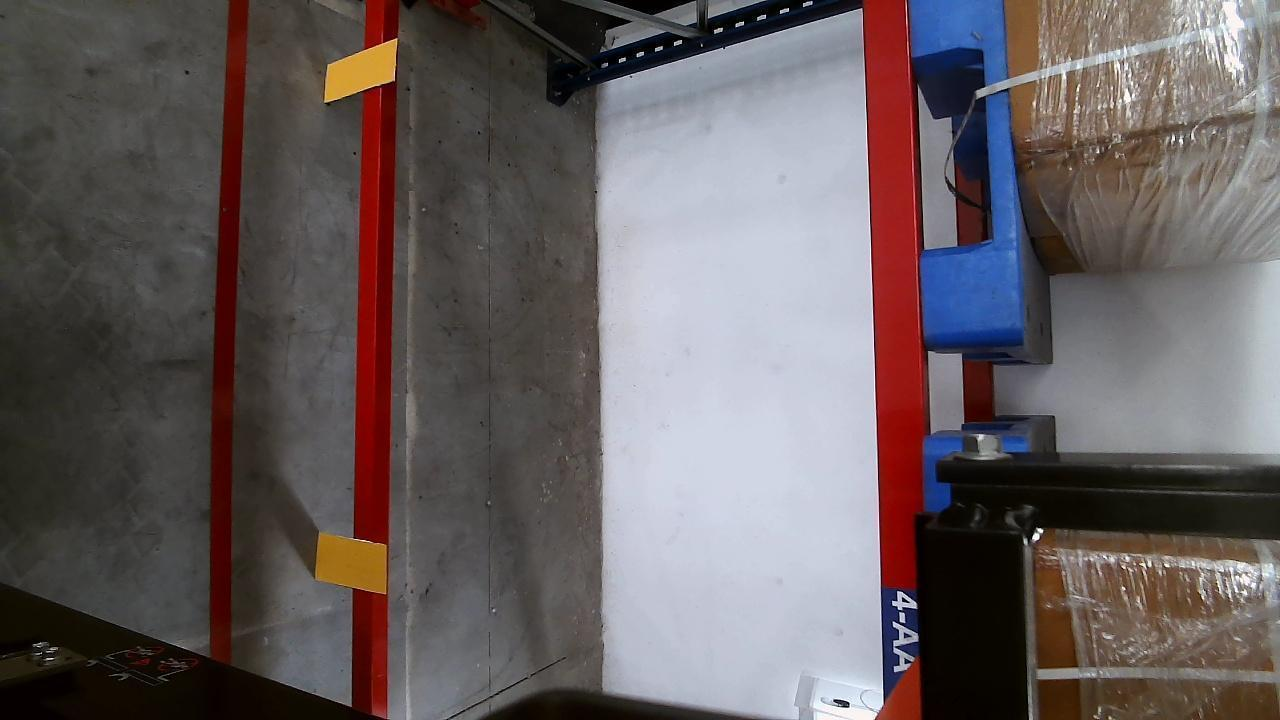red_line: (207, 3, 251, 660)
